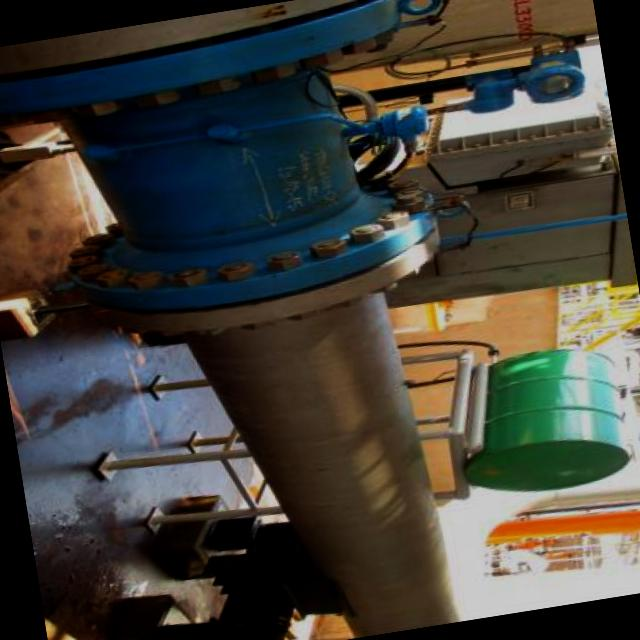gas: (35, 8, 464, 639)
